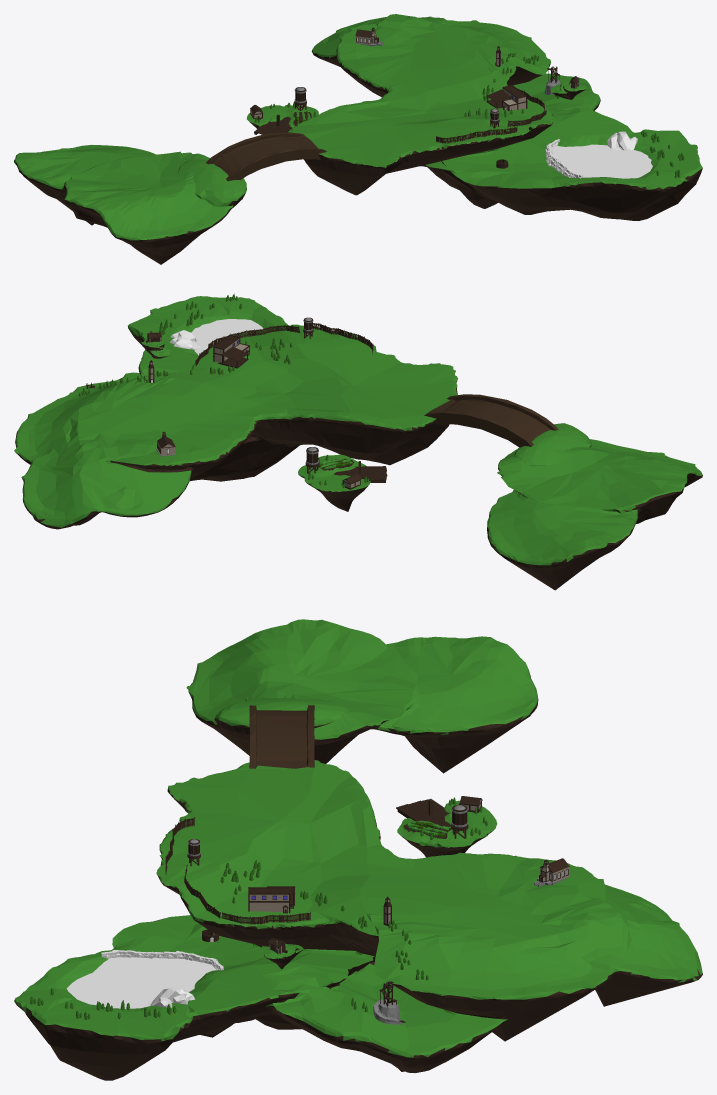
The model's file is TownBackup.fbx.
3 renders of one model, top to bottom at view 1: azimuth 30°, elevation 25°; view 2: azimuth 150°, elevation 25°; view 3: azimuth 270°, elevation 25°, orthographic. The views are drawn at different scales.
Visible parts, largest first — view 1: BigTown, Plane, Homestead, Cube.003, Big Town Trees, Cube.002, Cube.005, Cube.006, Homestead Dock, Cabin Island; view 2: BigTown, Homestead, Plane, Big Town Trees, Cube.003, Cube.002, Homestead Dock; view 3: BigTown, Plane, Homestead, Big Town Trees, Cube.003, Cube.002, Homestead Dock, Cube.005, Big Town Stairs.
Part boxes in pixels (<box>): BigTown: <box>14,14,702,264</box>; Plane: <box>551,144,652,178</box>; Homestead: <box>246,105,318,132</box>; Cube.003: <box>436,88,546,143</box>; Big Town Trees: <box>464,53,684,178</box>; Cube.002: <box>486,85,527,111</box>; Cube.005: <box>545,139,582,178</box>; Cube.006: <box>607,131,637,151</box>; Homestead Dock: <box>254,114,291,134</box>; Cabin Island: <box>550,81,586,99</box>; BigTown: <box>14,296,702,590</box>; Homestead: <box>298,454,370,511</box>; Plane: <box>191,319,263,355</box>; Big Town Trees: <box>79,293,292,396</box>; Cube.003: <box>195,323,373,365</box>; Cube.002: <box>213,334,249,368</box>; Homestead Dock: <box>334,461,387,482</box>; BigTown: <box>14,619,702,1080</box>; Plane: <box>66,957,216,1008</box>; Homestead: <box>397,800,497,857</box>; Big Town Trees: <box>30,860,428,1019</box>; Cube.003: <box>165,817,310,924</box>; Cube.002: <box>248,886,295,913</box>; Homestead Dock: <box>396,799,450,826</box>; Cube.005: <box>101,950,223,970</box>; Big Town Stairs: <box>373,981,405,1024</box>.
Size of what is drawn, in the model's own units: 9672 by 2120 by 7392.
